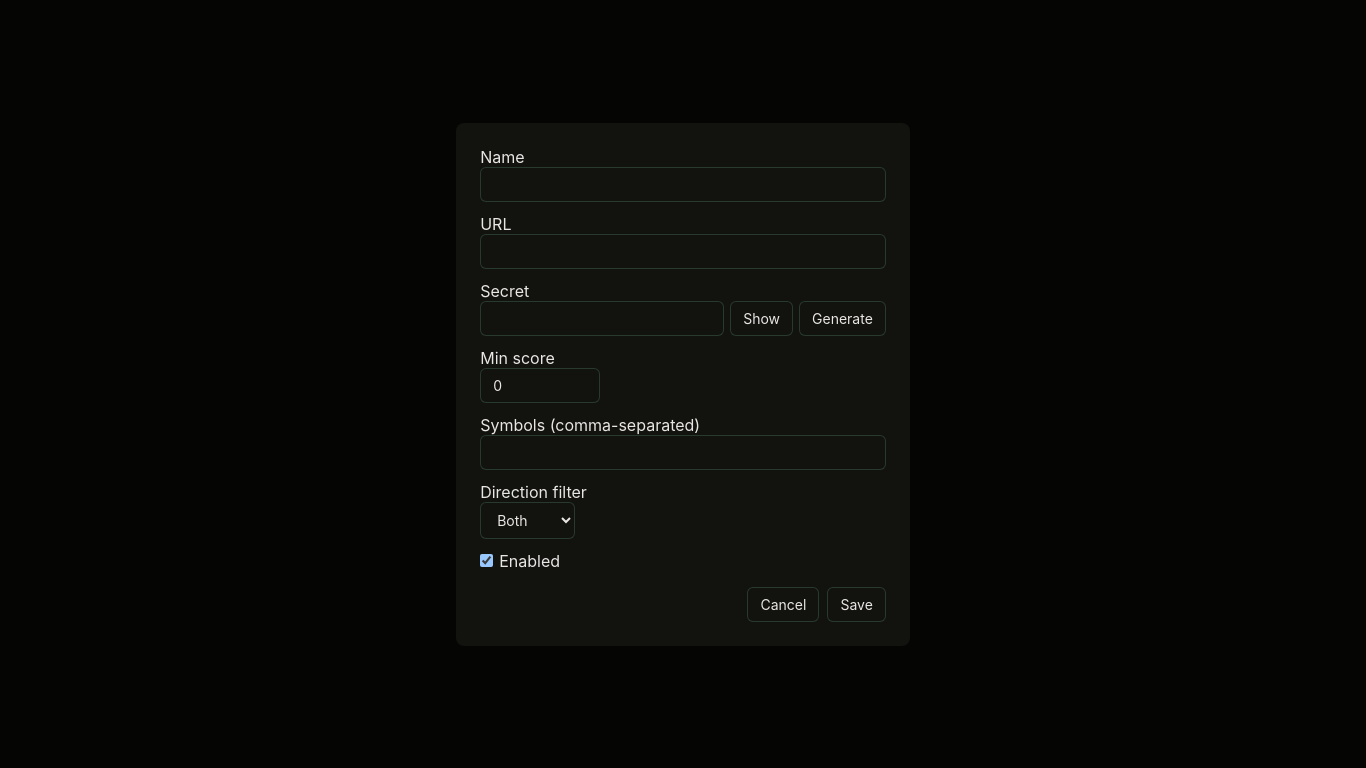
it: PluginEditModal › Generate fills secret field and copies to clipboard
This screenshot has width=1366, height=768.
Click the button "Generate". click: click(842, 318)
box: [799,300,886,336]
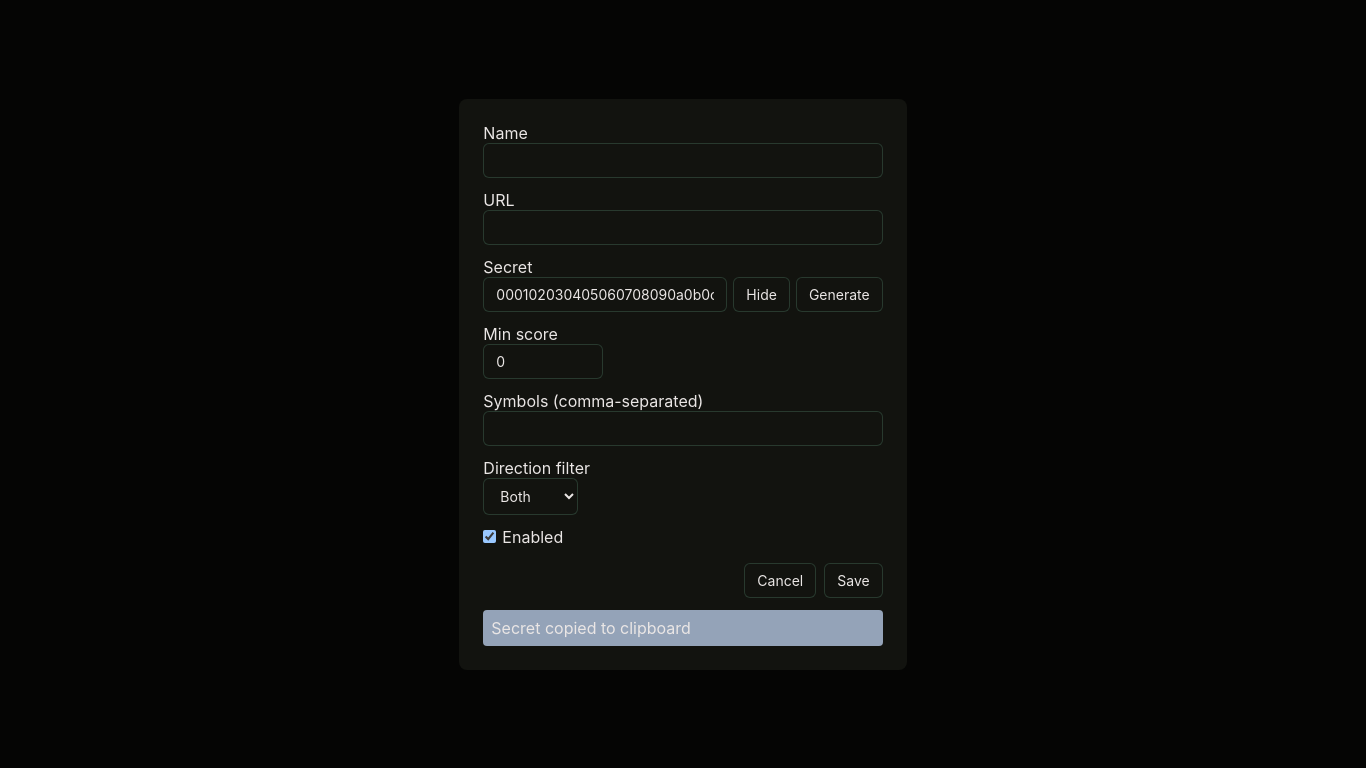
Now the text "Secret copied to clipboard" is shown, box [483,610,883,646]
